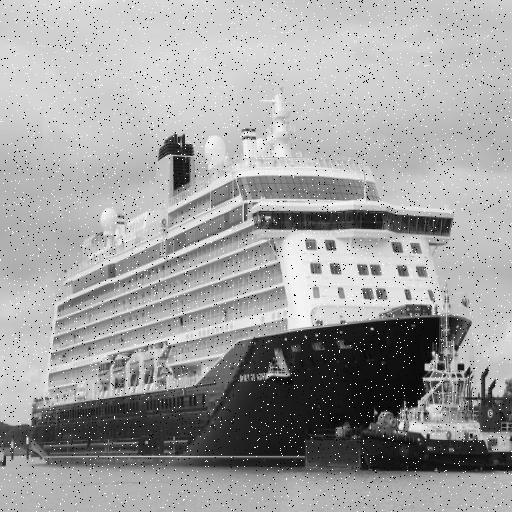cruises: (26, 81, 477, 474)
